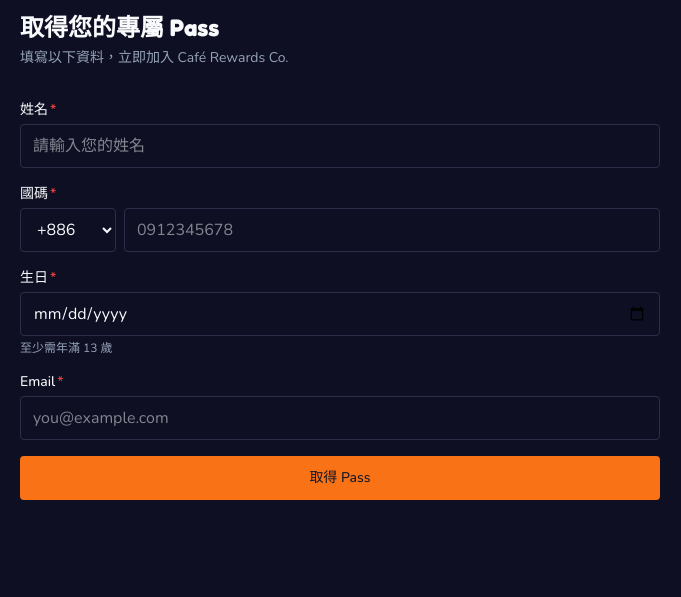
Test: PassHolderRegistration › Q3: validation error shows translated text, not the raw i18n key
Click the button with test id "pass-holder-submit".
click(340, 478)  # box left=20, top=456, right=660, bottom=500
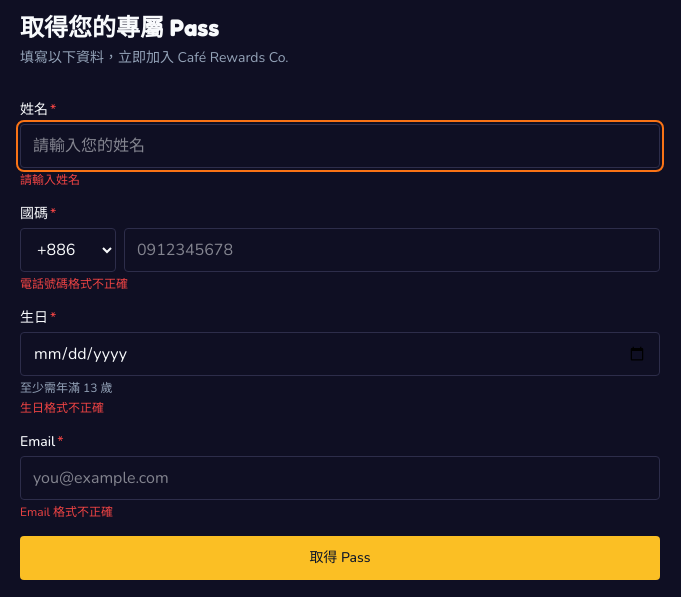
Now the text "請輸入姓名" is shown, box left=20, top=172, right=80, bottom=188
